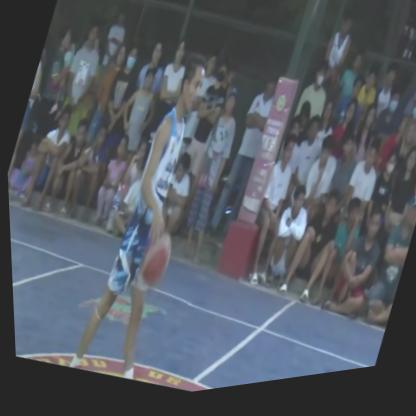basketball: (127, 233, 176, 304)
